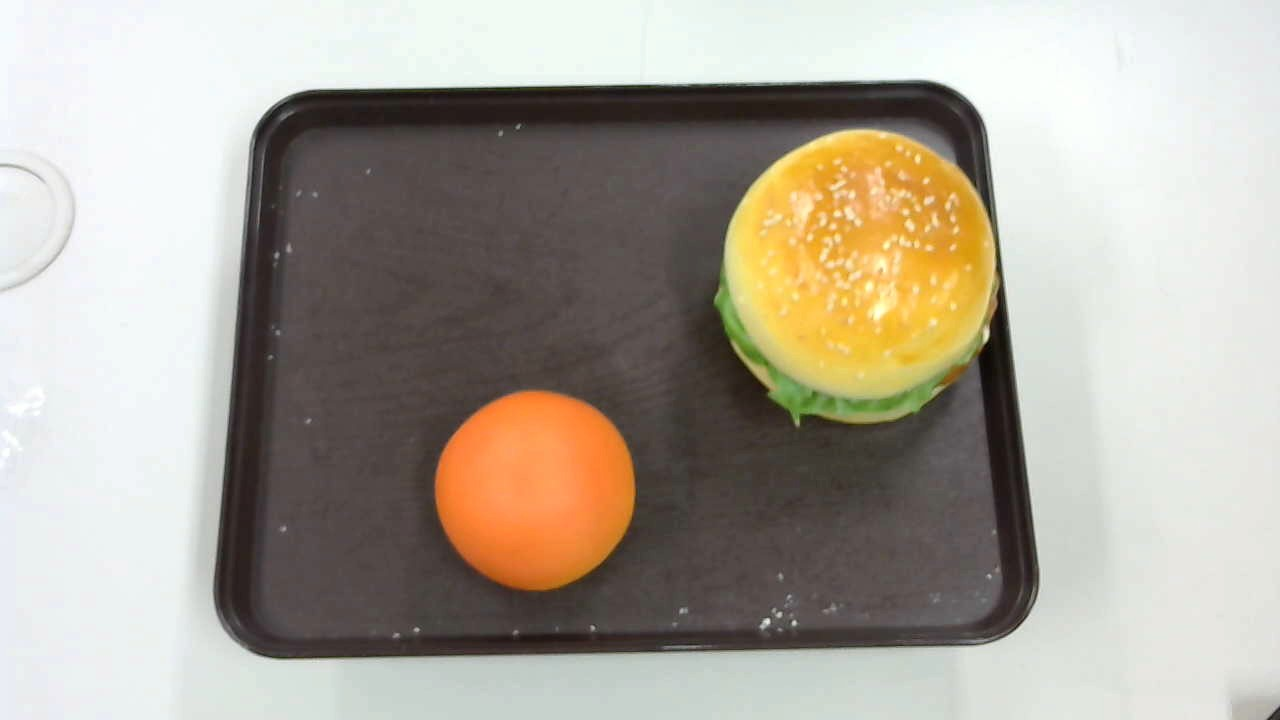bun: (433, 389, 634, 591)
hamburger: (714, 129, 1000, 427)
